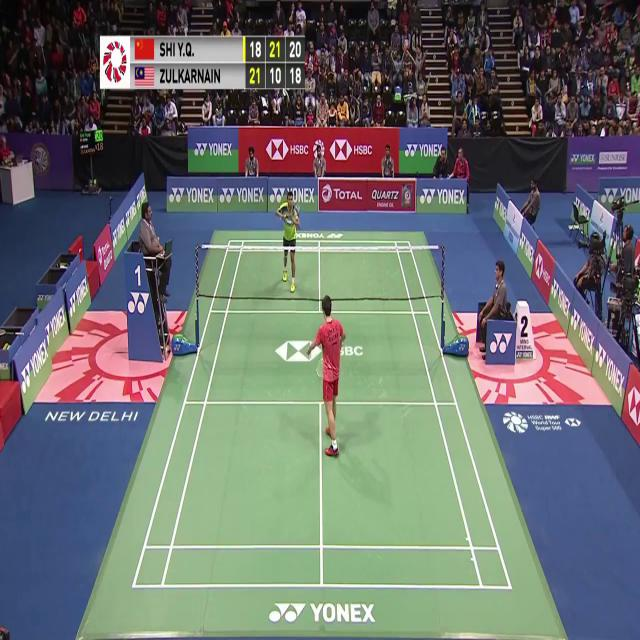Shuttlecock: (307, 352, 313, 364)
